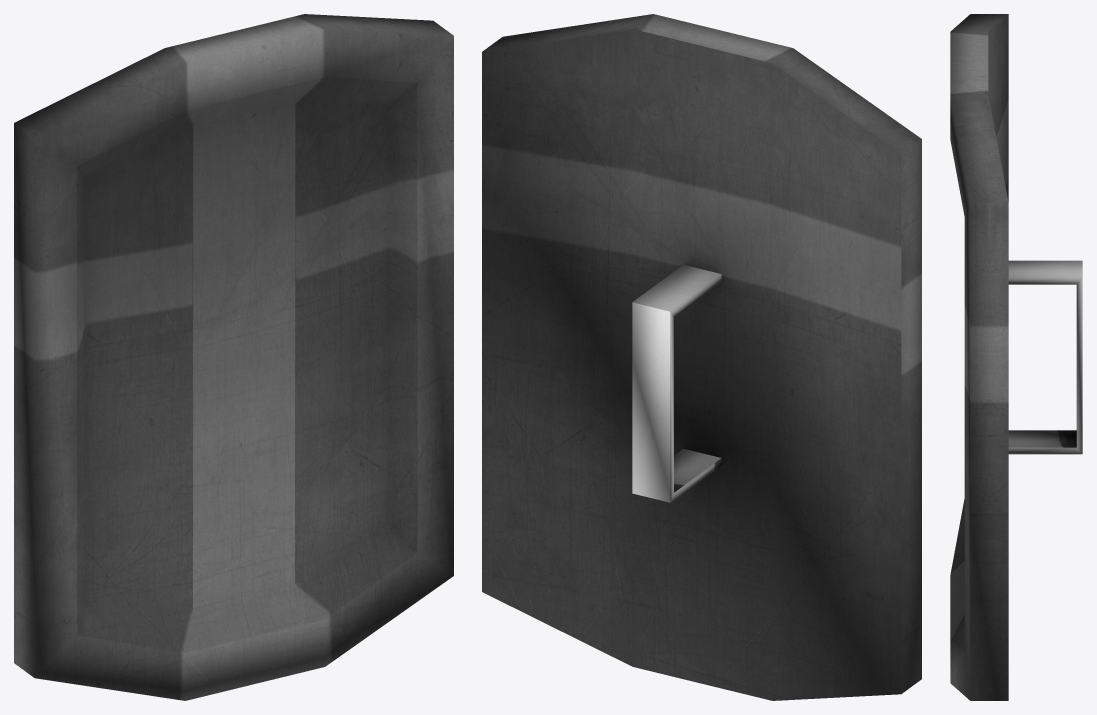
Rendered from shield.fbx.
The picture shows the model from 3 angles, left to right: view 1: azimuth 30°, elevation 25°; view 2: azimuth 150°, elevation 25°; view 3: azimuth 270°, elevation 25°; orthographic projection. The views are drawn at different scales.
Visible parts, largest first — view 1: Cube; view 2: Cube; view 3: Cube.
Part boxes in pixels (x1,y1,x2,y2): Cube: [14, 14, 453, 700]; Cube: [482, 14, 921, 700]; Cube: [950, 14, 1082, 700].
Size of the model in its own units: 3.18 by 4.62 by 0.945.
